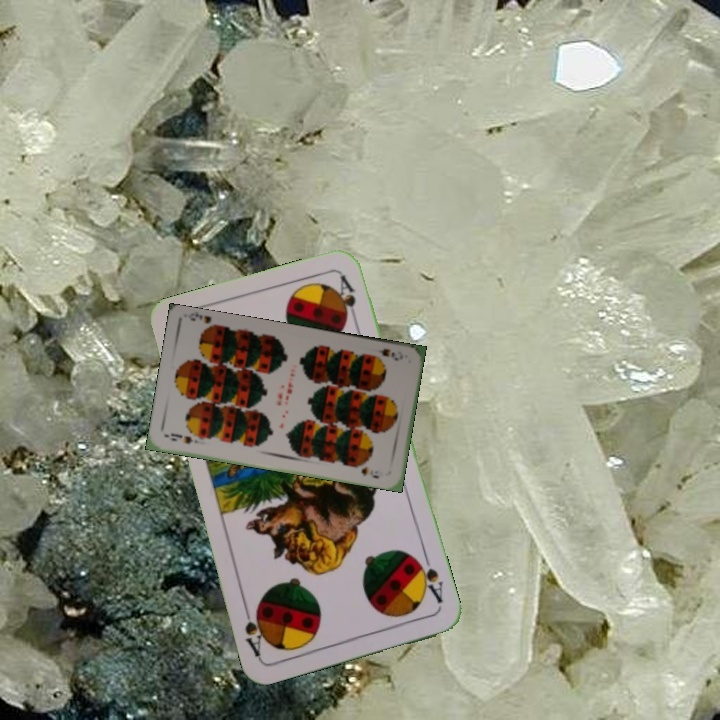S9: (166, 429, 202, 446), (374, 344, 406, 363)
SA: (411, 551, 446, 606)
